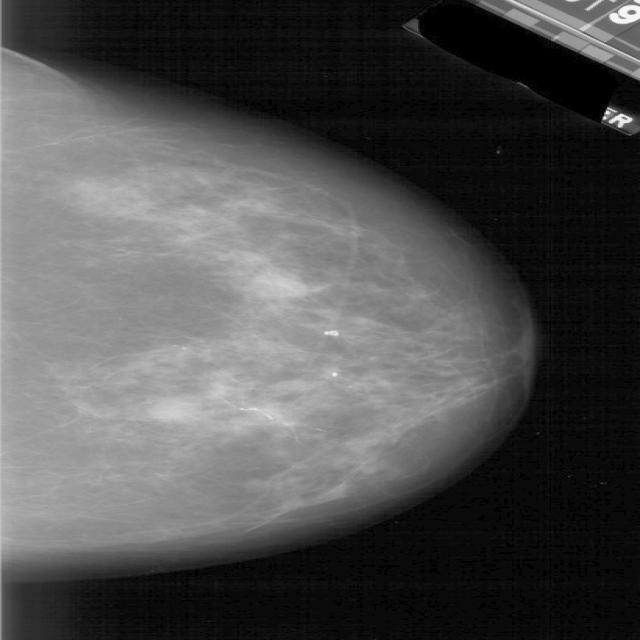tumour: (148, 392, 208, 422)
